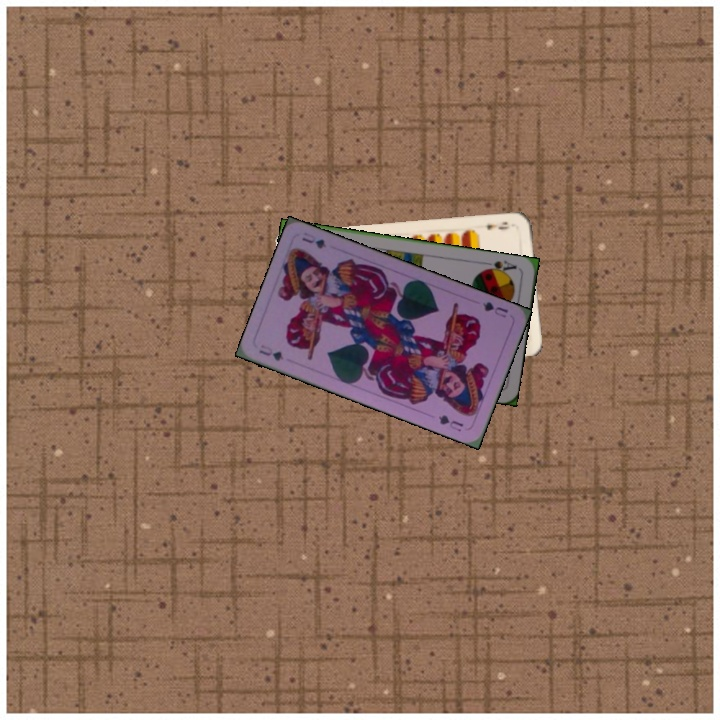E9: (482, 218, 511, 232)
GU: (478, 297, 511, 320), (255, 341, 286, 364)
SA: (479, 257, 519, 277)
